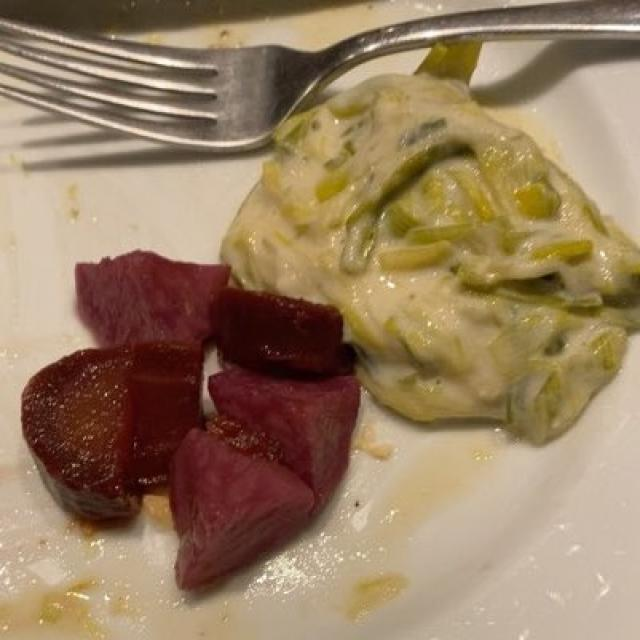beetroot: (41, 276, 357, 577)
vegetables-baked: (231, 87, 622, 436)
